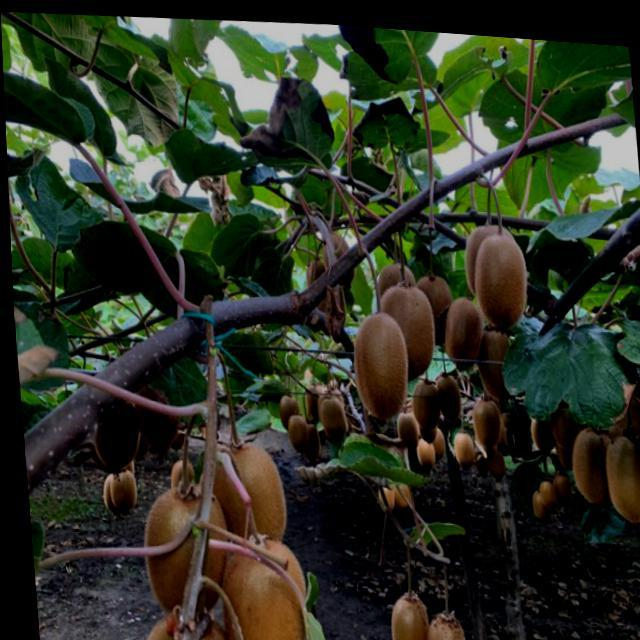kiwi: (133, 473, 229, 622), (212, 526, 309, 640), (345, 301, 407, 414), (369, 275, 435, 380), (466, 222, 530, 329), (458, 211, 519, 294), (84, 389, 139, 478), (129, 361, 179, 456), (597, 417, 640, 518), (564, 417, 612, 499), (410, 261, 455, 340), (436, 288, 481, 359), (381, 582, 429, 640), (466, 388, 499, 441), (416, 603, 463, 640), (427, 365, 457, 416), (408, 372, 438, 420), (314, 390, 345, 435), (280, 408, 307, 445), (448, 423, 469, 462), (535, 468, 555, 504)
